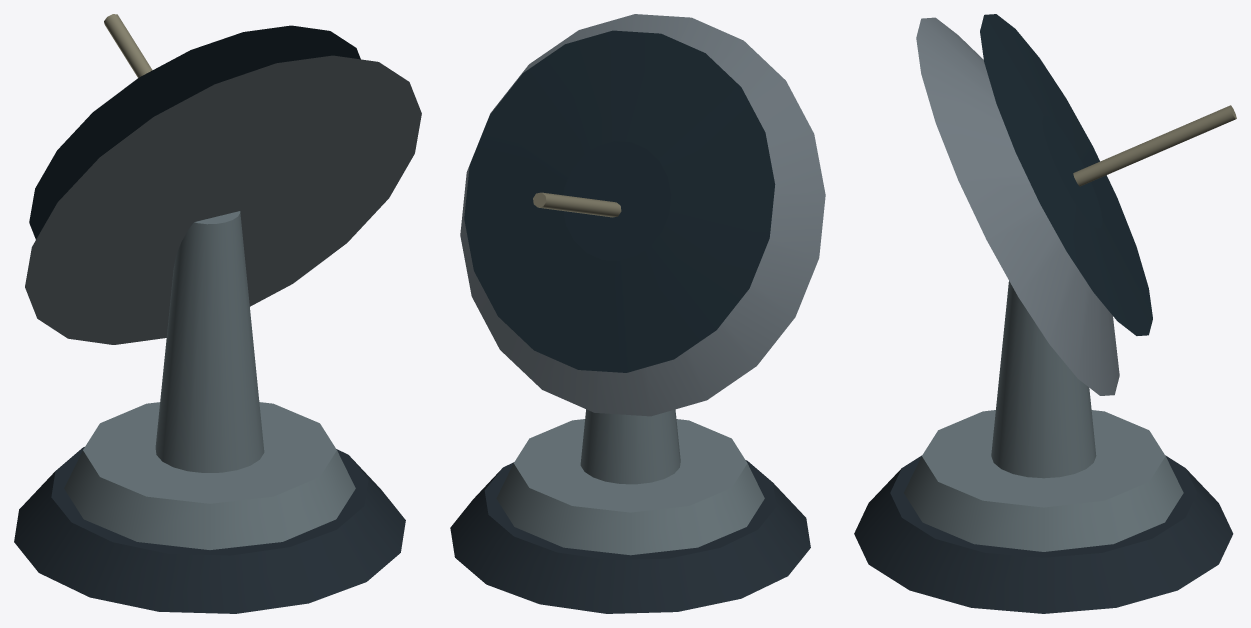
The model's file is pelagic_high_pressure--sensor_array.glb.
3 views of the same model, side by side, from view 1: azimuth 30°, elevation 25°; view 2: azimuth 150°, elevation 25°; view 3: azimuth 270°, elevation 25° (orthographic). The views are drawn at different scales.
Visible parts, largest first — view 1: sensor_dish_4, mount_adapter_1, rotation_bearing_2, sensor_mast_3, array_face_5, receiver_6; view 2: array_face_5, sensor_dish_4, mount_adapter_1, rotation_bearing_2, sensor_mast_3, receiver_6; view 3: mount_adapter_1, rotation_bearing_2, sensor_dish_4, array_face_5, sensor_mast_3, receiver_6.
Boxes of the visible parts, x1,y1,x2,y2 form: sensor_dish_4: [25, 55, 421, 344]; mount_adapter_1: [14, 447, 405, 613]; rotation_bearing_2: [64, 402, 355, 549]; sensor_mast_3: [155, 211, 264, 472]; array_face_5: [29, 25, 360, 239]; receiver_6: [104, 14, 152, 77]; array_face_5: [464, 30, 775, 372]; sensor_dish_4: [460, 14, 825, 416]; mount_adapter_1: [450, 460, 810, 613]; rotation_bearing_2: [496, 419, 764, 555]; sensor_mast_3: [580, 409, 680, 484]; receiver_6: [533, 192, 621, 217]; mount_adapter_1: [854, 455, 1233, 613]; rotation_bearing_2: [904, 410, 1183, 551]; sensor_dish_4: [916, 17, 1119, 395]; array_face_5: [980, 14, 1152, 335]; sensor_mast_3: [991, 281, 1096, 478]; receiver_6: [1073, 105, 1236, 186].
Size of the model in its own units: 11.28 by 14.73 by 10.17.
